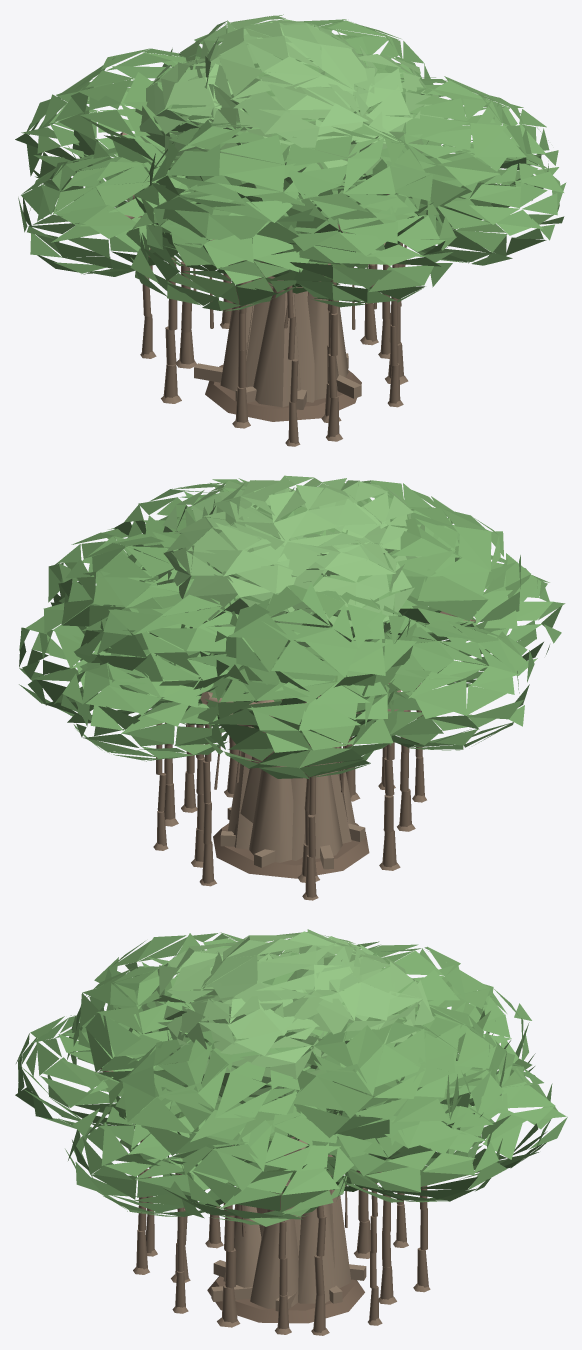
File: south_indian_village_large_banyan_tree.glb
The picture shows the model from 3 angles, top to bottom: view 1: azimuth 30°, elevation 25°; view 2: azimuth 150°, elevation 25°; view 3: azimuth 270°, elevation 25°; orthographic projection.
Parts seen in each view (by area): view 1: Banyan_Dense_Canopy, Banyan_Central_Fluted_Trunk, Tree_Subgrade_Root_Collar; view 2: Banyan_Dense_Canopy, Banyan_Central_Fluted_Trunk, Tree_Subgrade_Root_Collar; view 3: Banyan_Dense_Canopy, Banyan_Central_Fluted_Trunk, Tree_Subgrade_Root_Collar.
Boxes of the visible parts, x1,y1,x2,y2 form: Banyan_Dense_Canopy: (15,14,566,311); Banyan_Central_Fluted_Trunk: (194,263,361,409); Tree_Subgrade_Root_Collar: (205,364,361,421); Banyan_Dense_Canopy: (19,475,565,779); Banyan_Central_Fluted_Trunk: (220,726,365,869); Tree_Subgrade_Root_Collar: (213,823,369,878); Banyan_Dense_Canopy: (15,929,567,1226); Banyan_Central_Fluted_Trunk: (211,1175,366,1311); Tree_Subgrade_Root_Collar: (207,1276,364,1323).
Size of the model in its own units: 19.03 by 13.25 by 18.9.
